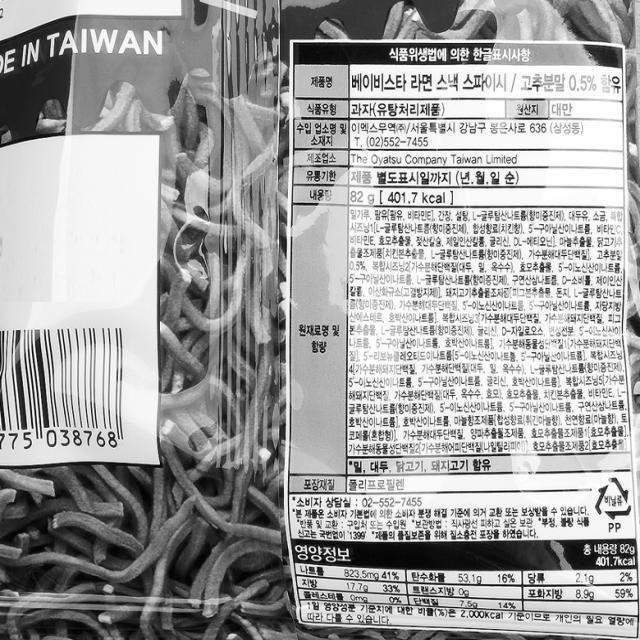Nutrition Label: (284, 528, 640, 639)
